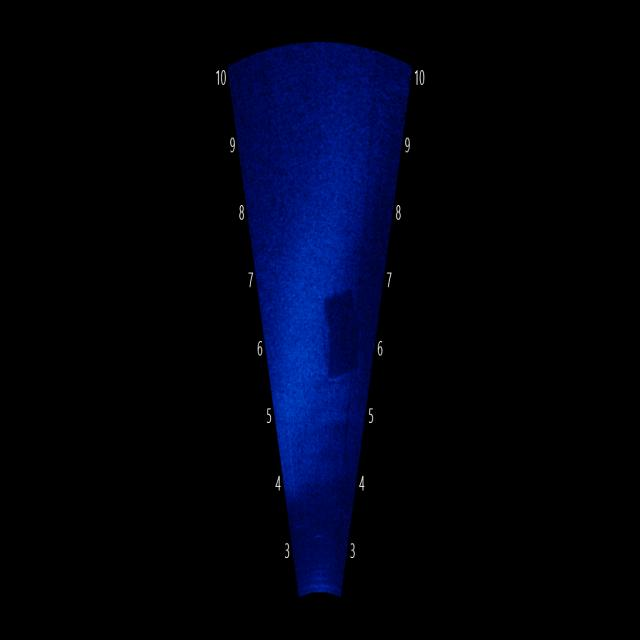square: (308, 256, 368, 392)
